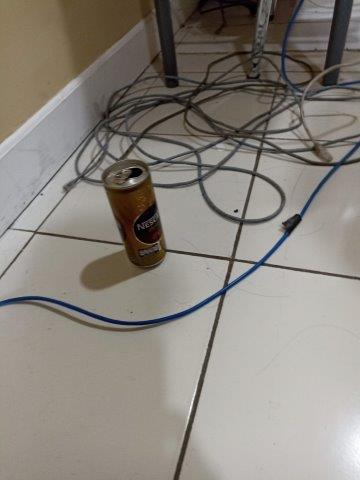kaleng: (101, 160, 167, 269)
